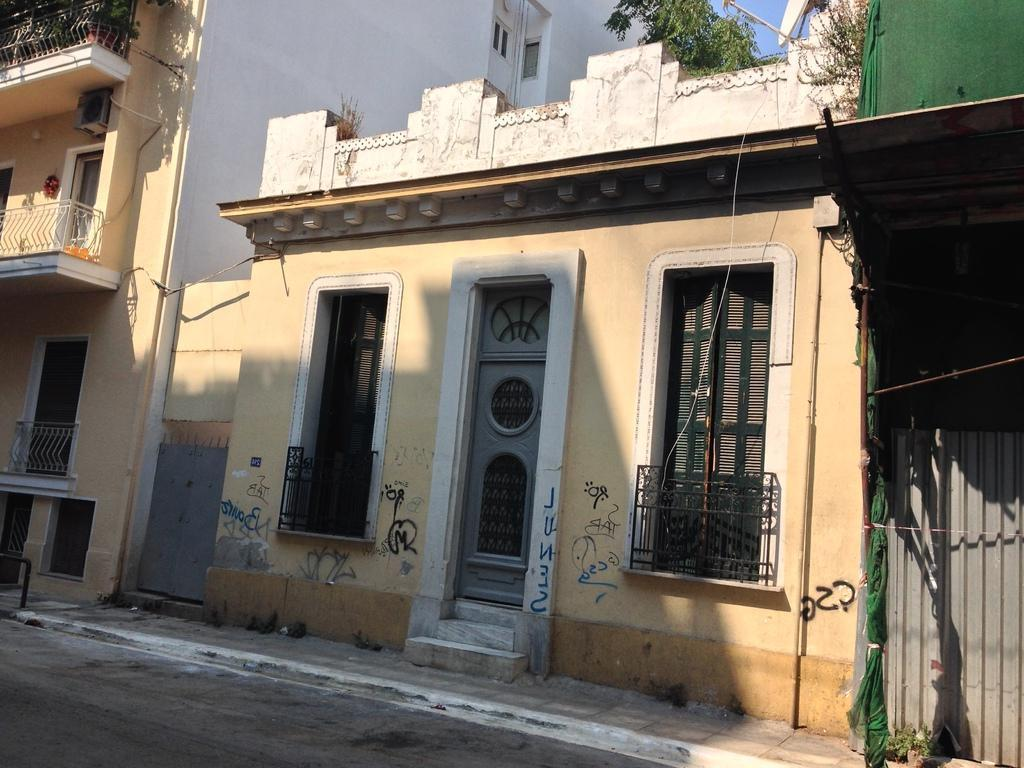door: (478, 310, 542, 588)
